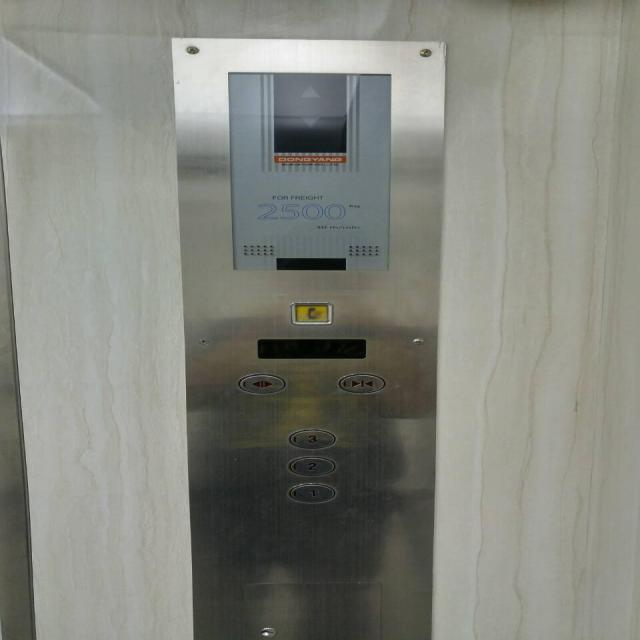1: (284, 480, 338, 504)
2: (285, 455, 337, 477)
3: (285, 427, 339, 450)
call: (290, 300, 336, 326)
close: (332, 371, 388, 395)
led: (268, 70, 354, 155)
open: (233, 373, 288, 395)
